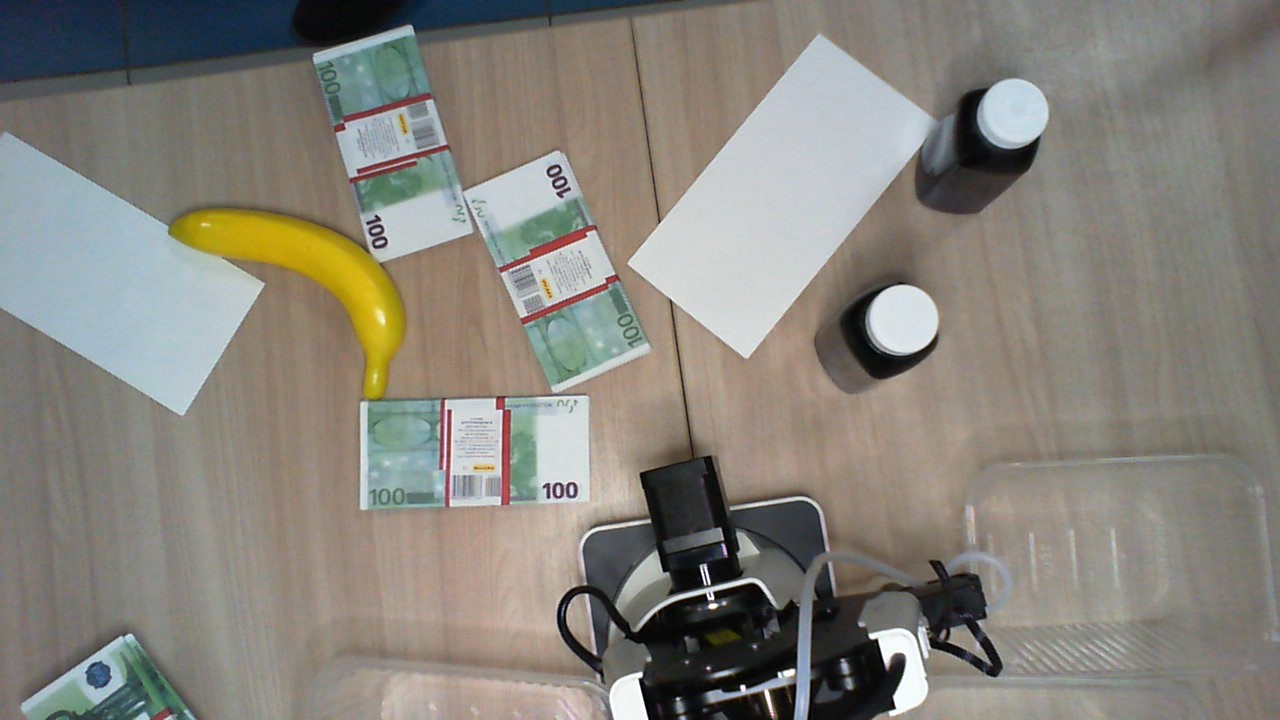banana: (163, 201, 407, 399)
bottle: (842, 280, 944, 376), (955, 77, 1055, 173)
convert: (626, 29, 939, 353), (1, 132, 268, 418)
money: (465, 149, 652, 393), (308, 20, 471, 260), (360, 394, 593, 511), (19, 632, 207, 720)
